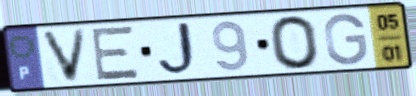9: (209, 19, 252, 75)
E: (90, 24, 142, 83)
G: (322, 12, 371, 67)
J: (156, 20, 204, 79)
O: (266, 13, 323, 72)
V: (38, 26, 90, 85)
